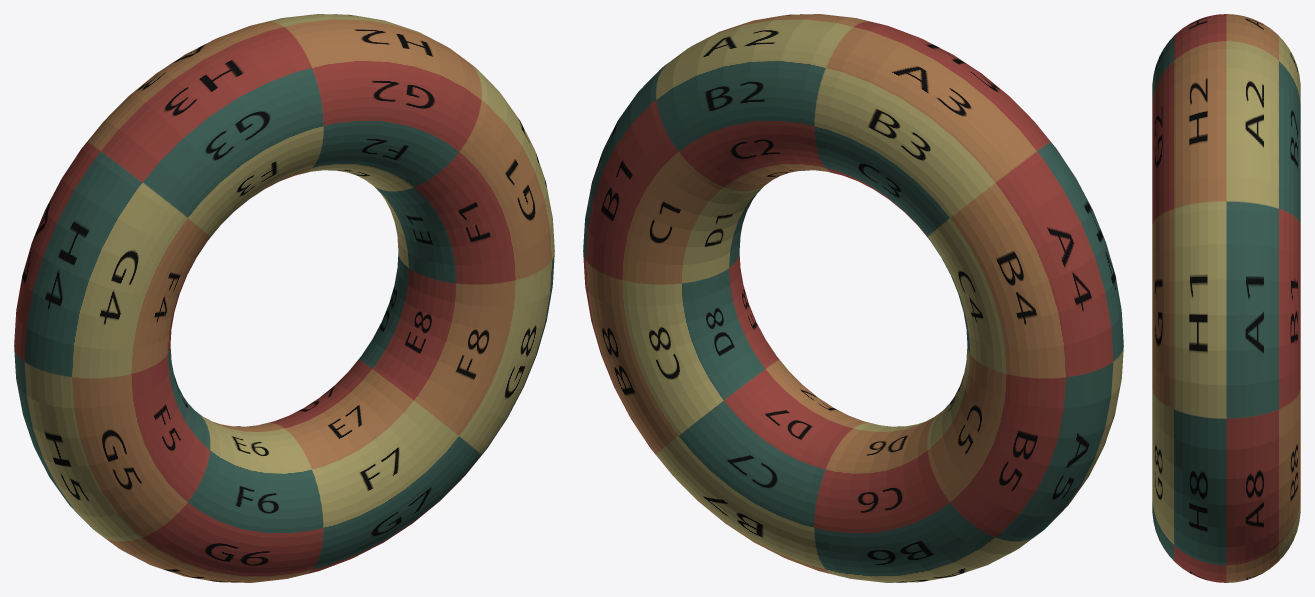
File: texture_torus_R23_r26.glb
3 views of the same model, side by side, from view 1: azimuth 30°, elevation 25°; view 2: azimuth 150°, elevation 25°; view 3: azimuth 270°, elevation 25° (orthographic). The views are drawn at different scales.
Visible parts, largest first — view 1: world; view 2: world; view 3: world.
Part boxes in pixels (x1=…): world: x1=14, y1=14, x2=554, y2=582; world: x1=583, y1=14, x2=1123, y2=582; world: x1=1152, y1=14, x2=1300, y2=582.
Size of the model in its own units: 34.27 by 34.2 by 8.92.
1 material, 1 textured.
